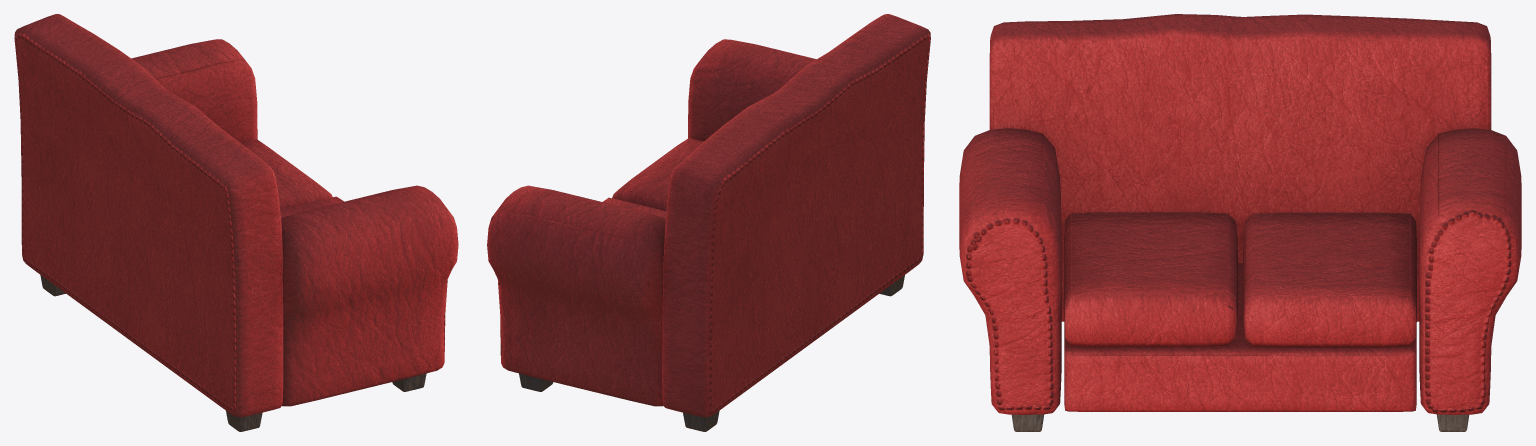
3 views of the same model, side by side, from view 1: azimuth 30°, elevation 25°; view 2: azimuth 150°, elevation 25°; view 3: azimuth 270°, elevation 25° (orthographic). The views are drawn at different scales.
Parts seen in each view (by area): view 1: sofa_1; view 2: sofa_1; view 3: sofa_1.
Part boxes in pixels (bbox=[...]): sofa_1: bbox=[14, 14, 458, 431]; sofa_1: bbox=[487, 14, 930, 431]; sofa_1: bbox=[959, 14, 1521, 431].
Size of the model in its own units: 1.08 by 1.27 by 2.09.
Materials: 1 (1 with a texture image).
